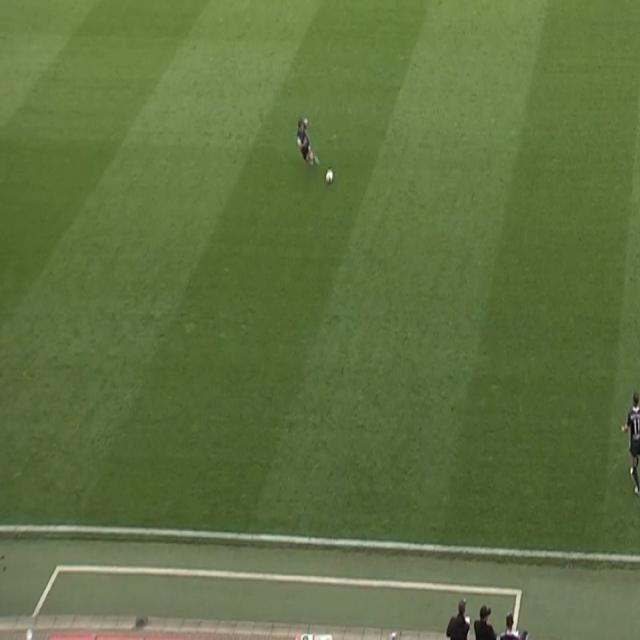ball: (324, 166, 335, 187)
